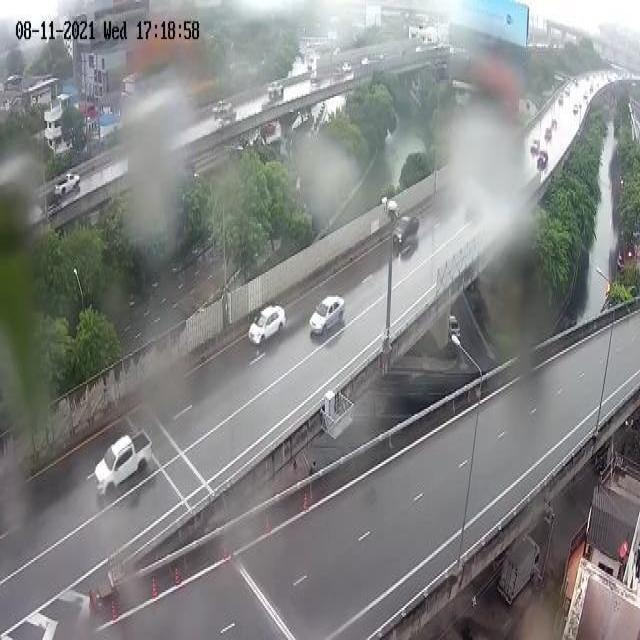Car: (247, 304, 286, 348), (308, 296, 346, 338), (392, 214, 421, 247), (267, 80, 284, 103)
Truck: (94, 427, 154, 497), (52, 171, 81, 198)
